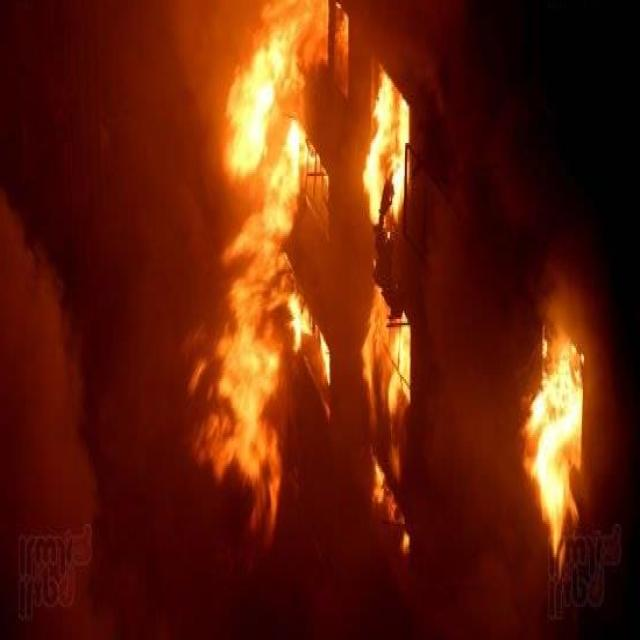fire: (180, 0, 432, 547), (524, 302, 597, 540)
